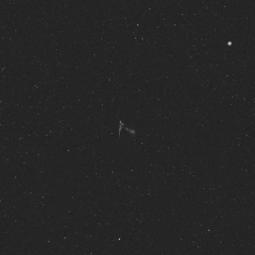debris: (112, 115, 142, 146)
